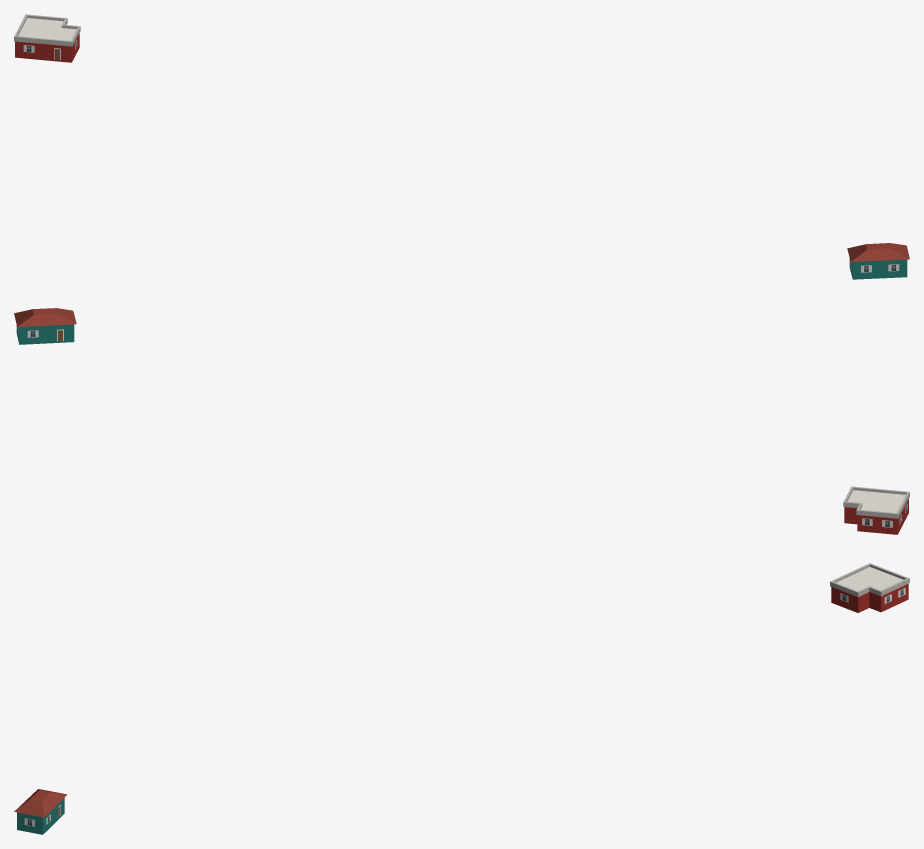
File: msb_sannicolas_19_26.glb
3 renders of one model, top to bottom at view 1: azimuth 30°, elevation 25°; view 2: azimuth 210°, elevation 25°; view 3: azimuth 270°, elevation 25°, orthographic.
Parts seen in each view (by area): view 1: msb_sannicolas_19_26_lod0; view 2: msb_sannicolas_19_26_lod0; view 3: msb_sannicolas_19_26_lod0.
Part boxes in pixels (x1,y1,x2,y2): msb_sannicolas_19_26_lod0: [14, 14, 909, 279]; msb_sannicolas_19_26_lod0: [14, 308, 909, 534]; msb_sannicolas_19_26_lod0: [14, 563, 909, 834].
Size of what is drawn, in the model's own units: 93.65 by 7.63 by 152.
Materials: 3 (1 with a texture image).
